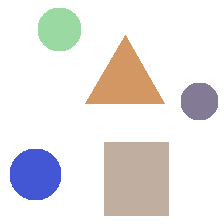circle: (10, 149, 60, 199), (38, 8, 80, 50), (181, 83, 217, 119)
rectangle: (104, 142, 168, 215)
triangle: (85, 35, 164, 103)
